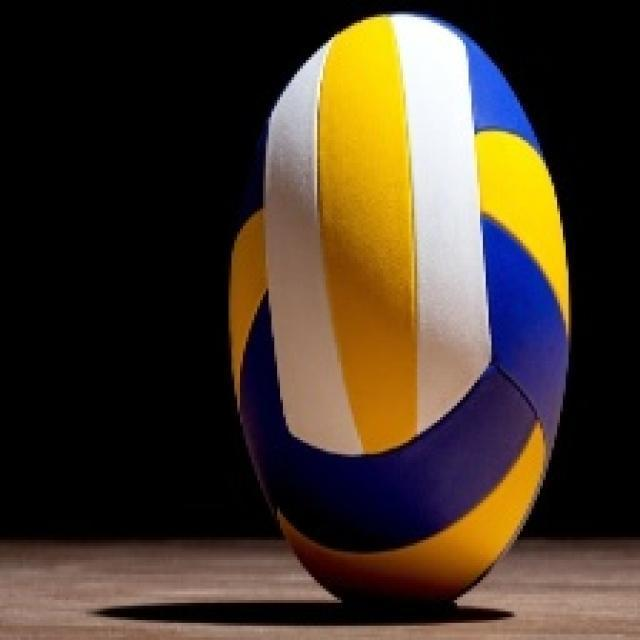volleyball: (227, 14, 569, 609)
